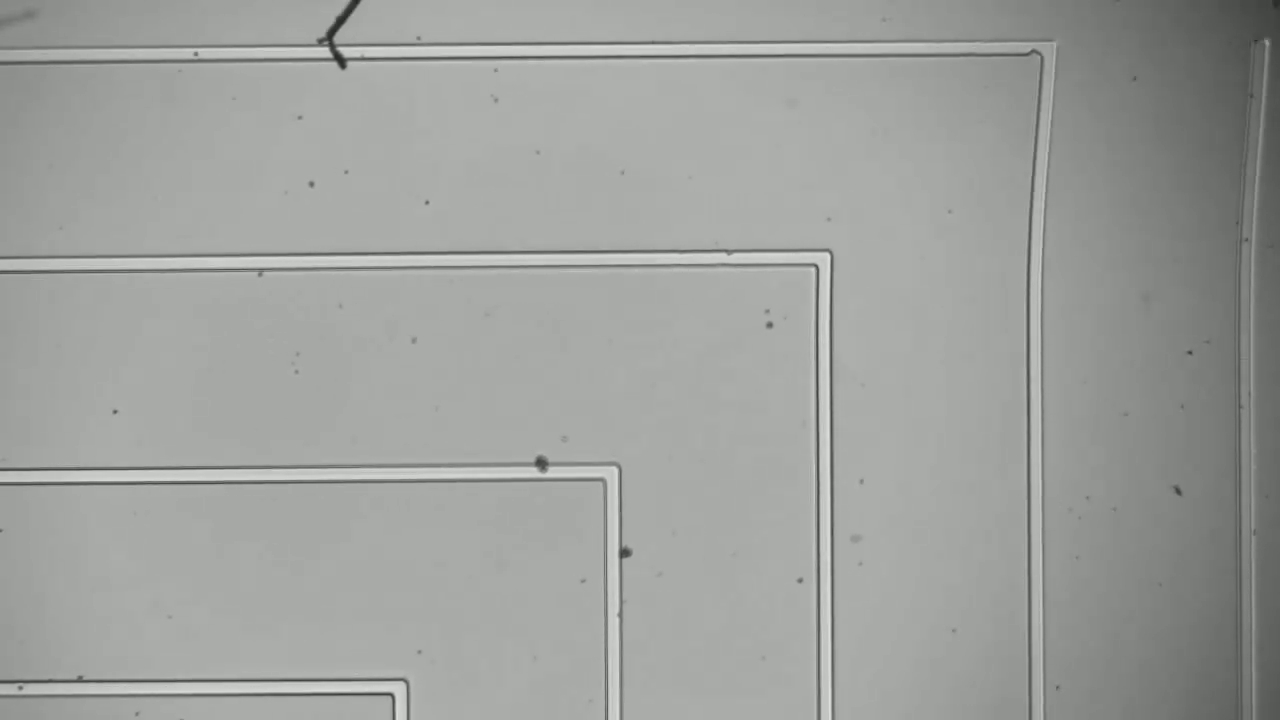edge_bite: (1018, 33, 1046, 61)
stains_enbedded: (530, 450, 560, 486)
